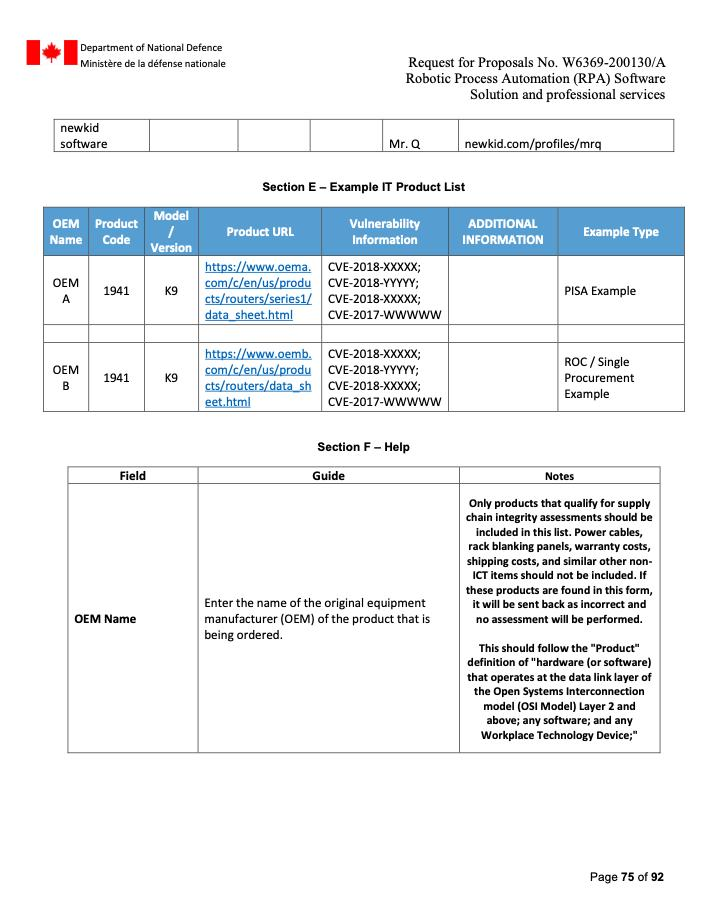cell: (200, 483, 458, 755), (460, 484, 661, 756), (71, 486, 197, 753), (323, 254, 445, 324), (324, 344, 444, 410), (557, 257, 681, 320), (199, 344, 316, 409), (203, 256, 319, 321), (563, 343, 677, 407), (461, 119, 675, 153), (56, 117, 148, 153), (94, 256, 142, 324), (93, 344, 139, 409), (44, 344, 87, 408), (150, 259, 194, 320), (150, 346, 192, 409), (47, 257, 89, 318), (383, 119, 456, 153)
head: (459, 459, 664, 485), (197, 461, 460, 481), (200, 210, 320, 253), (324, 209, 446, 250), (564, 210, 682, 251), (454, 210, 558, 252), (91, 207, 145, 254), (70, 463, 195, 483), (147, 207, 195, 255), (47, 209, 87, 252)
tabulation: (56, 453, 672, 769), (39, 200, 691, 417), (46, 111, 683, 162)
